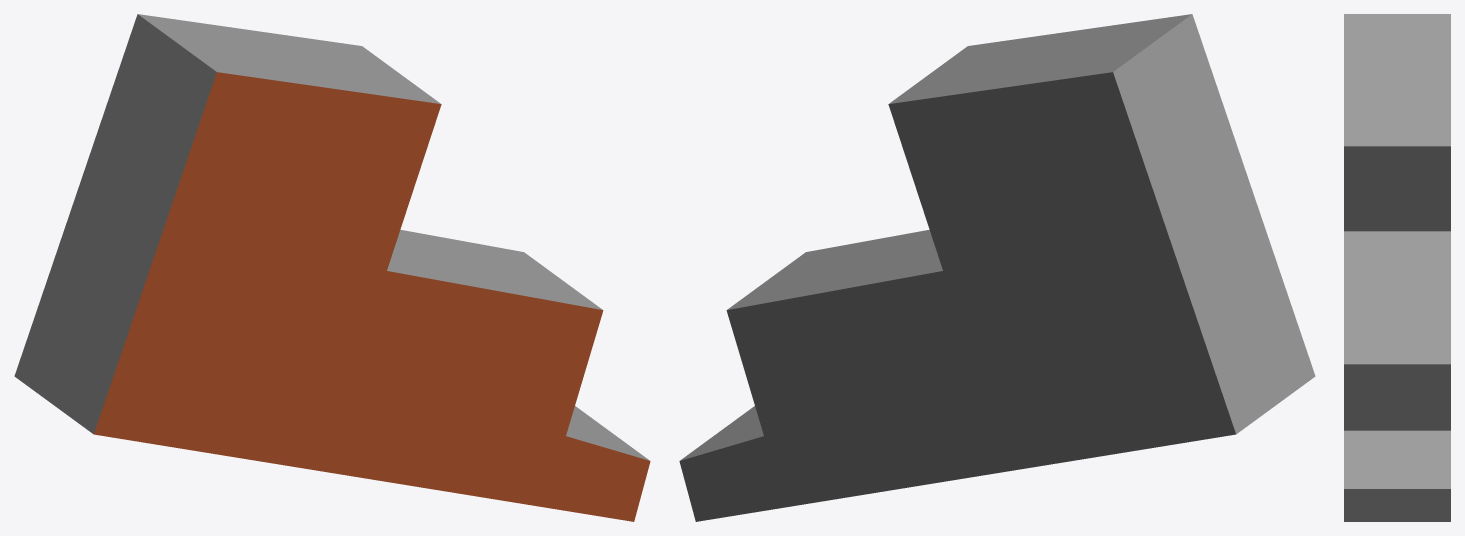
Rendered from construction_0204_assumed_A_Casa_h6m.obj.
3 renders of one model, left to right at view 1: azimuth 30°, elevation 25°; view 2: azimuth 150°, elevation 25°; view 3: azimuth 270°, elevation 25°, orthographic. The views are drawn at different scales.
Parts seen in each view (by area): view 1: construction_0204_assumed_A_Casa; view 2: construction_0204_assumed_A_Casa; view 3: construction_0204_assumed_A_Casa.
Boxes of the visible parts, left/top/right/bottom form: construction_0204_assumed_A_Casa: left=14, top=14, right=650, bottom=521; construction_0204_assumed_A_Casa: left=679, top=14, right=1315, bottom=521; construction_0204_assumed_A_Casa: left=1344, top=14, right=1450, bottom=521.
Bounding box in the file's own units: 24.3 × 23.01 × 6.
